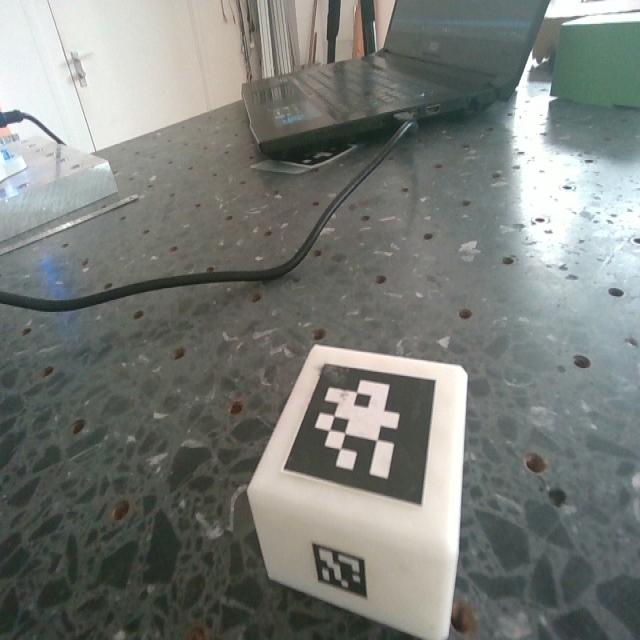Cube: (246, 337, 523, 639)
